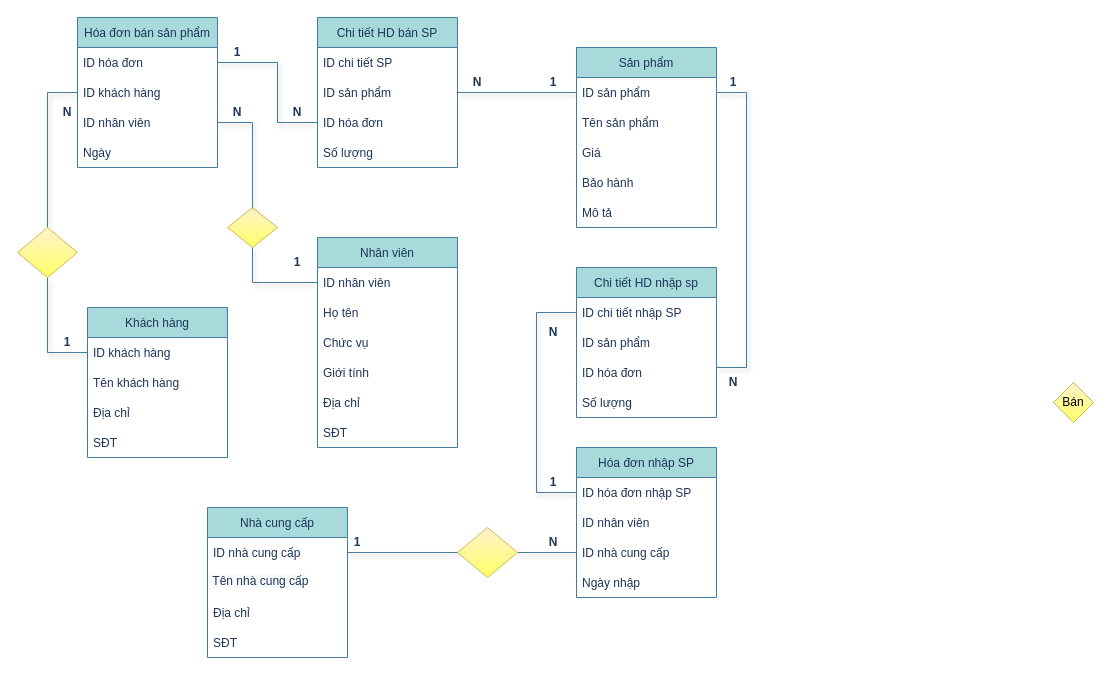
This 1111x675 diagram has some shape labels left out. The shapes that lost their labels are listed below. From the top down, each one's centre as x and y in pixels, then its label:
[252,227]: Lập
[47,252]: Thanh toán
[487,552]: Nhập hàng
